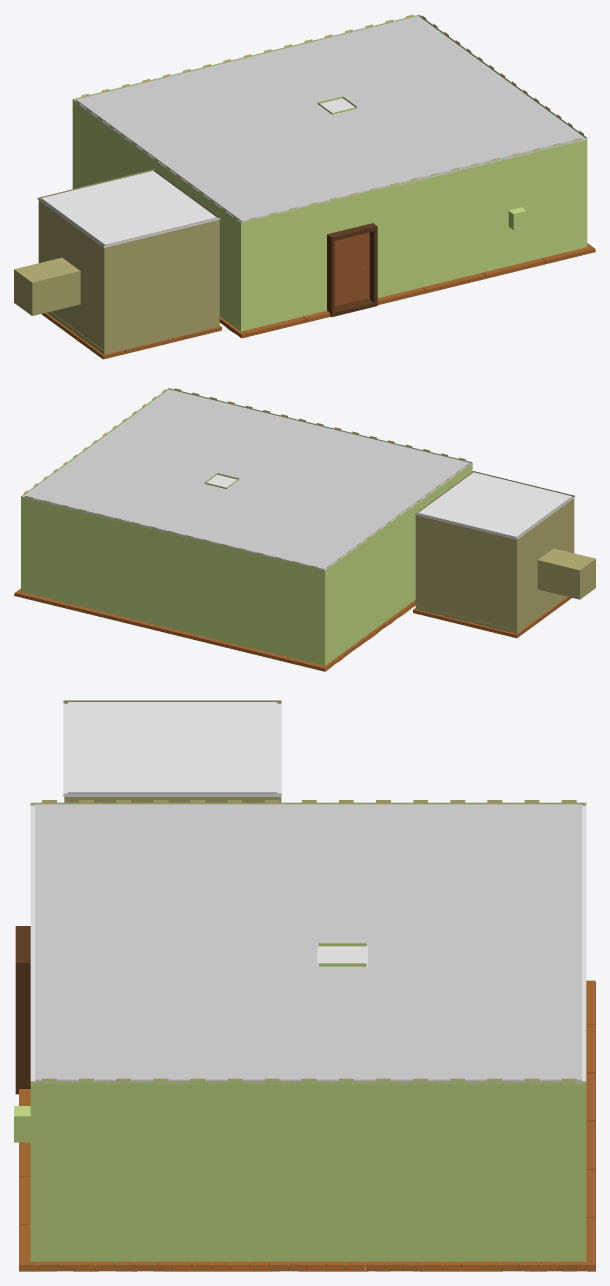
The model's file is room.glb.
The picture shows the model from 3 angles, top to bottom: view 1: azimuth 30°, elevation 25°; view 2: azimuth 150°, elevation 25°; view 3: azimuth 270°, elevation 25°; orthographic projection. The views are drawn at different scales.
Visible parts, largest first — view 1: room; view 2: room; view 3: room.
Boxes of the visible parts, x1=… form: room: x1=14, y1=14, x2=595, y2=359; room: x1=14, y1=388, x2=595, y2=671; room: x1=14, y1=700, x2=595, y2=1271.
Bounding box in the file's own units: 18.18 × 3.87 × 10.56.
